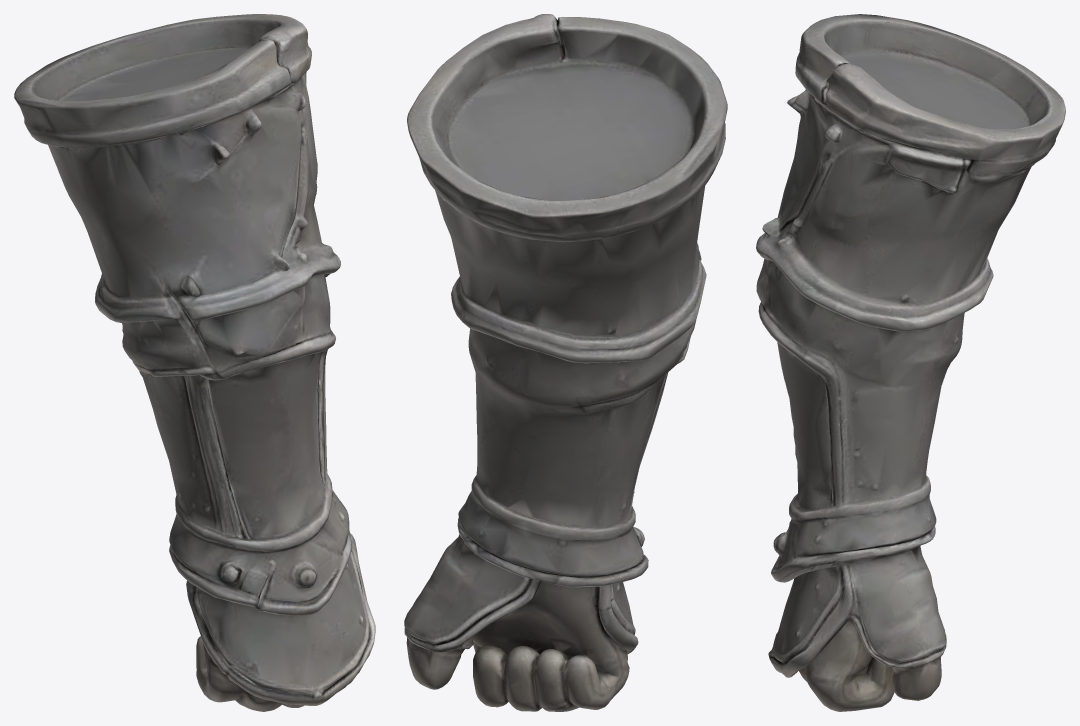
File: comum-bracal.glb
3 renders of one model, left to right at view 1: azimuth 30°, elevation 25°; view 2: azimuth 150°, elevation 25°; view 3: azimuth 270°, elevation 25°, orthographic. The views are drawn at different scales.
Visible parts, largest first — view 1: tripo_node_2bd1c6bf-9280-4d4a-9c31-2686b5073443; view 2: tripo_node_2bd1c6bf-9280-4d4a-9c31-2686b5073443; view 3: tripo_node_2bd1c6bf-9280-4d4a-9c31-2686b5073443.
Part boxes in pixels (box(x1,y1,x2,y2)): tripo_node_2bd1c6bf-9280-4d4a-9c31-2686b5073443: box(14, 14, 375, 711); tripo_node_2bd1c6bf-9280-4d4a-9c31-2686b5073443: box(404, 14, 727, 711); tripo_node_2bd1c6bf-9280-4d4a-9c31-2686b5073443: box(756, 14, 1065, 711).
Size of the model in its own units: 0.4585 by 0.9789 by 0.4381.
Materials: 1 (1 with a texture image).
